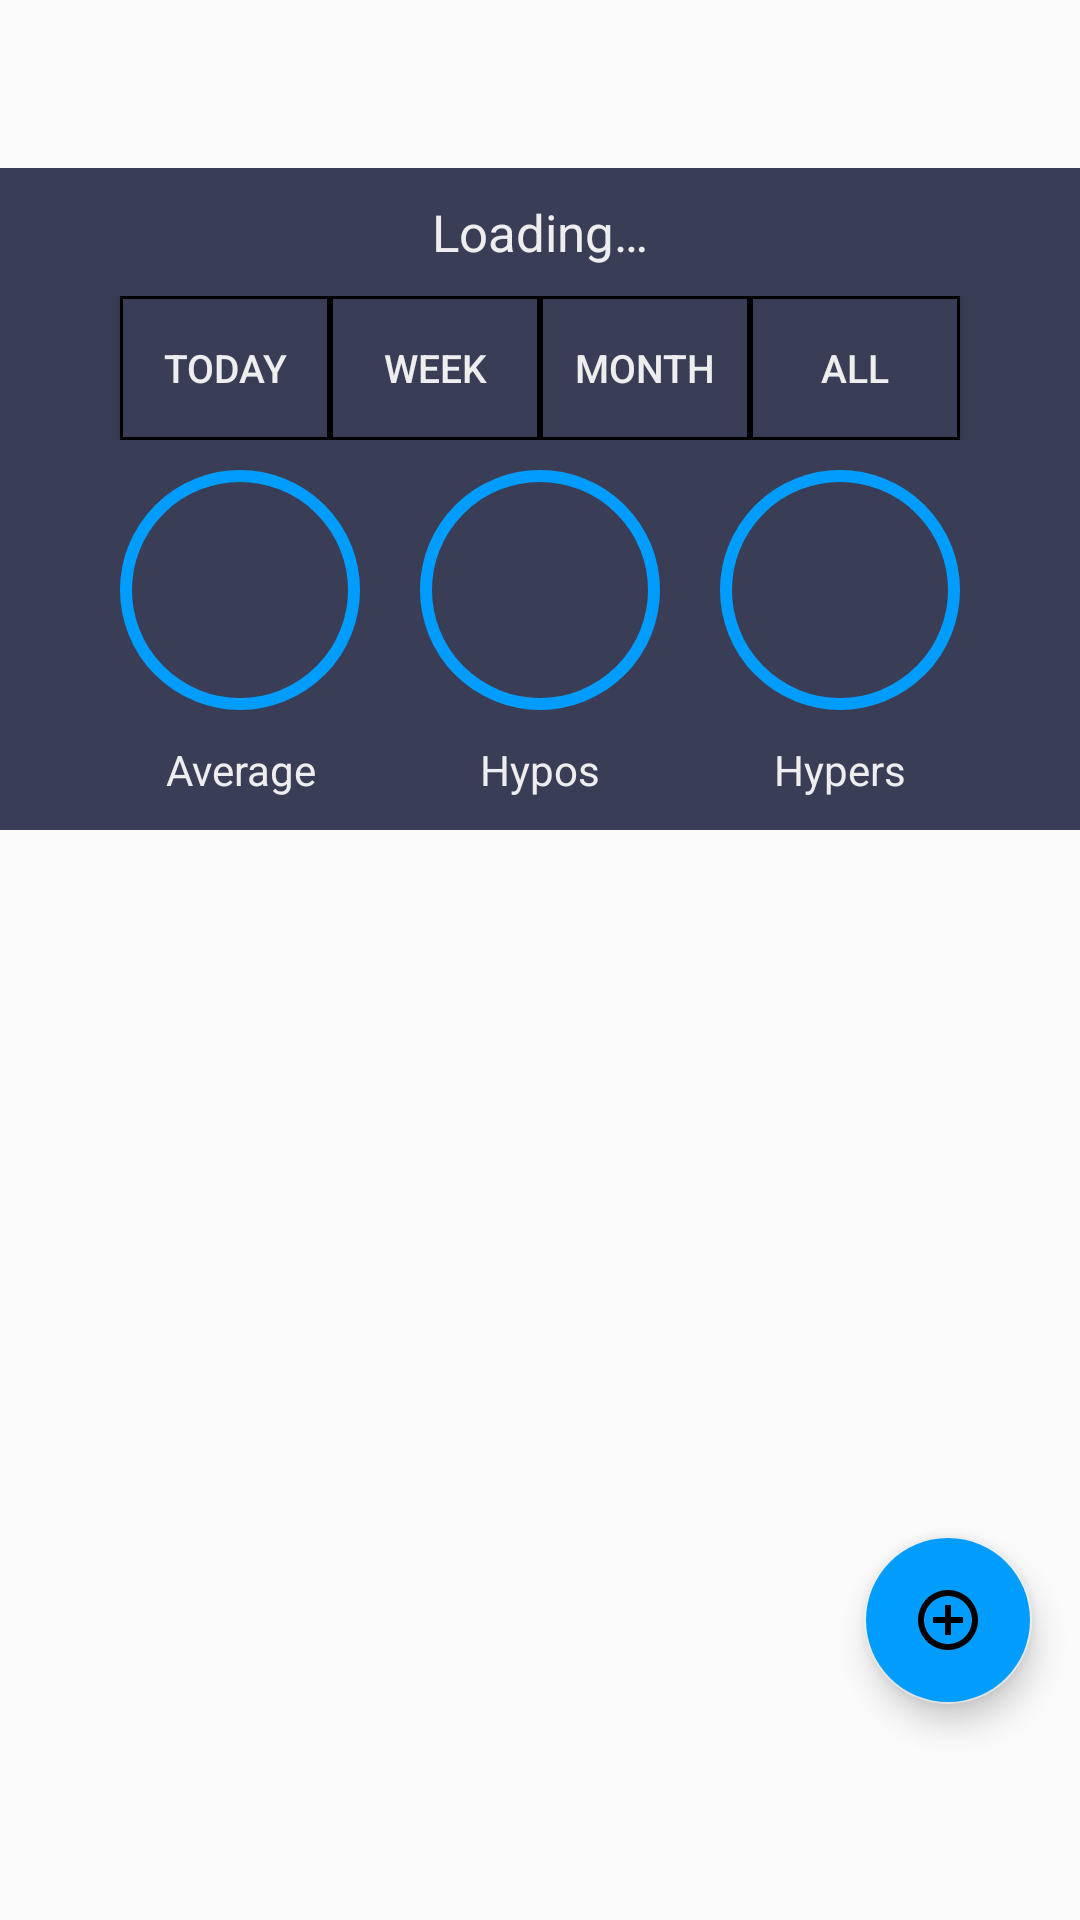

Icons on this 1080 x 1920 Android screen, each with the point to tap as (x=x, y=y):
fab plus in circle: (x=949, y=1621)
